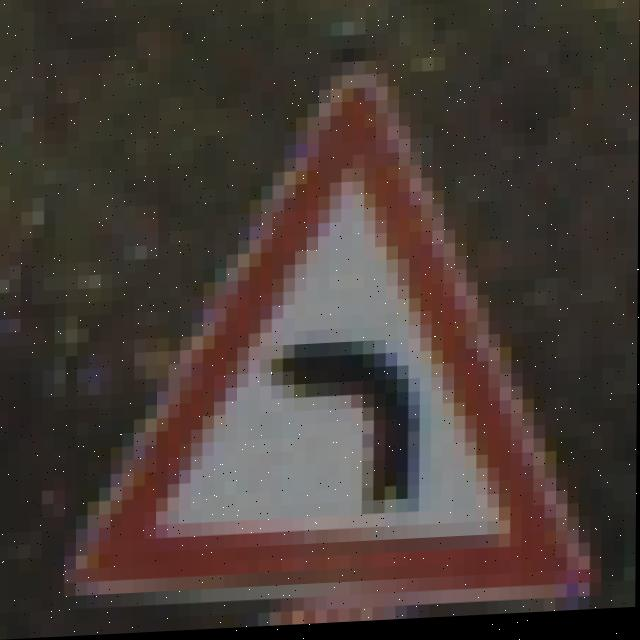left_turn: (98, 70, 590, 634)
